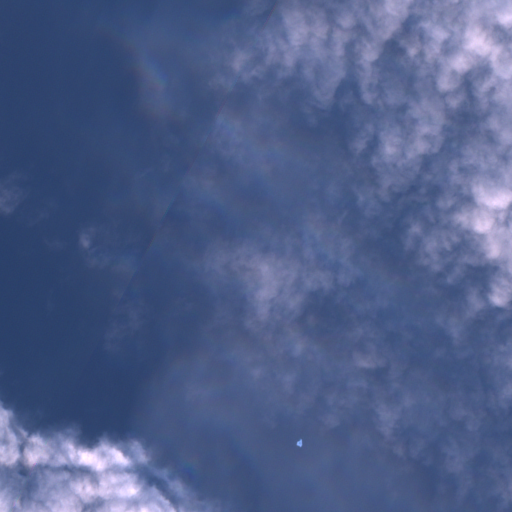Iceberg: (296, 439, 302, 446)
